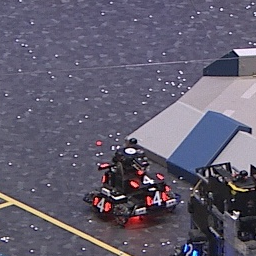Blue: (130, 171, 163, 189), (181, 242, 199, 256)
Red: (146, 191, 167, 208), (92, 195, 111, 211)
Robot: (83, 138, 183, 226), (174, 161, 256, 256)
